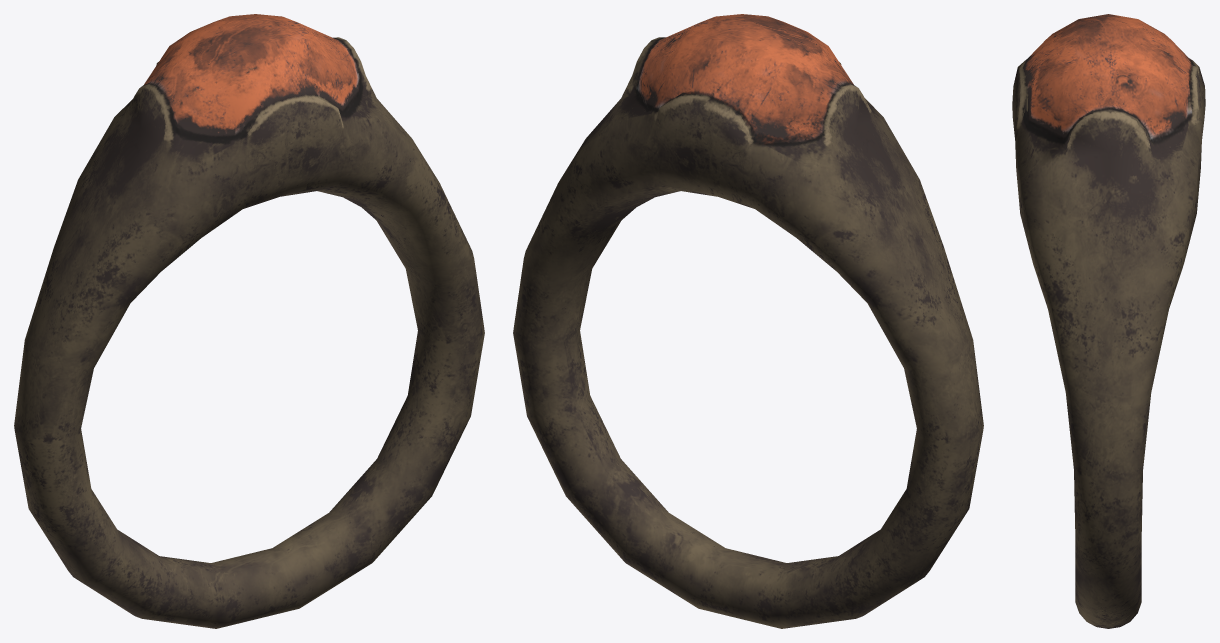
File: ancient_medieval_ring.glb
3 views of the same model, side by side, from view 1: azimuth 30°, elevation 25°; view 2: azimuth 150°, elevation 25°; view 3: azimuth 270°, elevation 25° (orthographic). The views are drawn at different scales.
Visible parts, largest first — view 1: Sphere.000; view 2: Sphere.000; view 3: Sphere.000.
Boxes of the visible parts, x1,y1,x2,y2 form: Sphere.000: (14, 14, 484, 628); Sphere.000: (513, 14, 983, 628); Sphere.000: (1012, 14, 1205, 628).
Size of the model in its own units: 57.28 by 70.59 by 21.51.
Materials: 1 (1 with a texture image).
